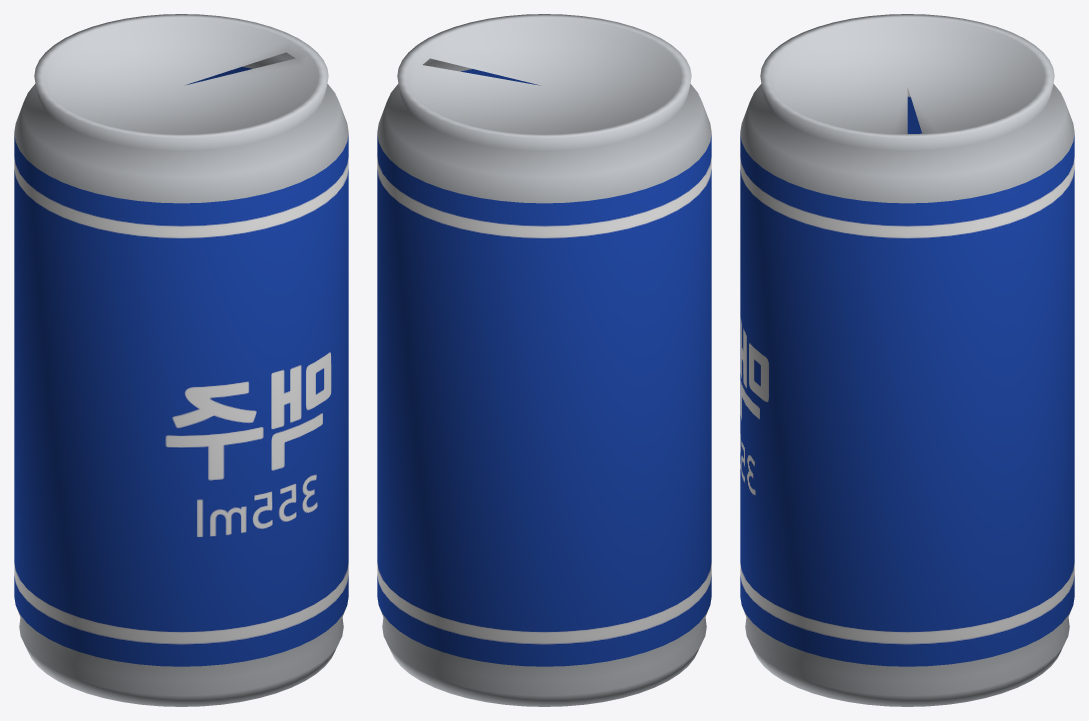
Rendered from item-beer_can_355.glb.
The picture shows the model from 3 angles, left to right: view 1: azimuth 30°, elevation 25°; view 2: azimuth 150°, elevation 25°; view 3: azimuth 270°, elevation 25°; orthographic projection.
Visible parts, largest first — view 1: body; view 2: body; view 3: body.
Part boxes in pixels (box(x1,y1,x2,y2)): body: box(14, 14, 348, 706); body: box(377, 14, 711, 706); body: box(740, 14, 1074, 706).
Size of the model in its own units: 0.066 by 0.123 by 0.066.
Materials: 2 (1 with a texture image).
